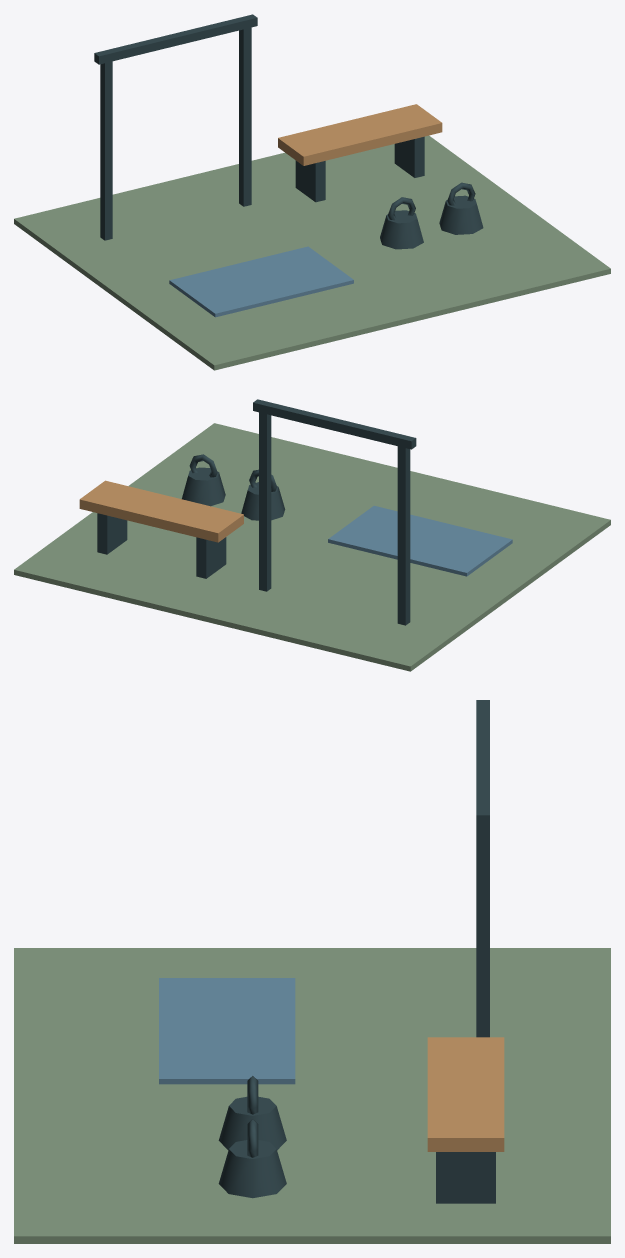
The model's file is fitness_corner.glb.
3 renders of one model, top to bottom at view 1: azimuth 30°, elevation 25°; view 2: azimuth 150°, elevation 25°; view 3: azimuth 270°, elevation 25°, orthographic. The views are drawn at different scales.
Visible parts, largest first — view 1: fitness_corner; view 2: fitness_corner; view 3: fitness_corner.
Part boxes in pixels (<box>): fitness_corner: <box>14,14,610,370</box>; fitness_corner: <box>14,399,610,671</box>; fitness_corner: <box>14,700,610,1243</box>.
Bounding box in the file's own units: 8 × 3.68 × 7.
